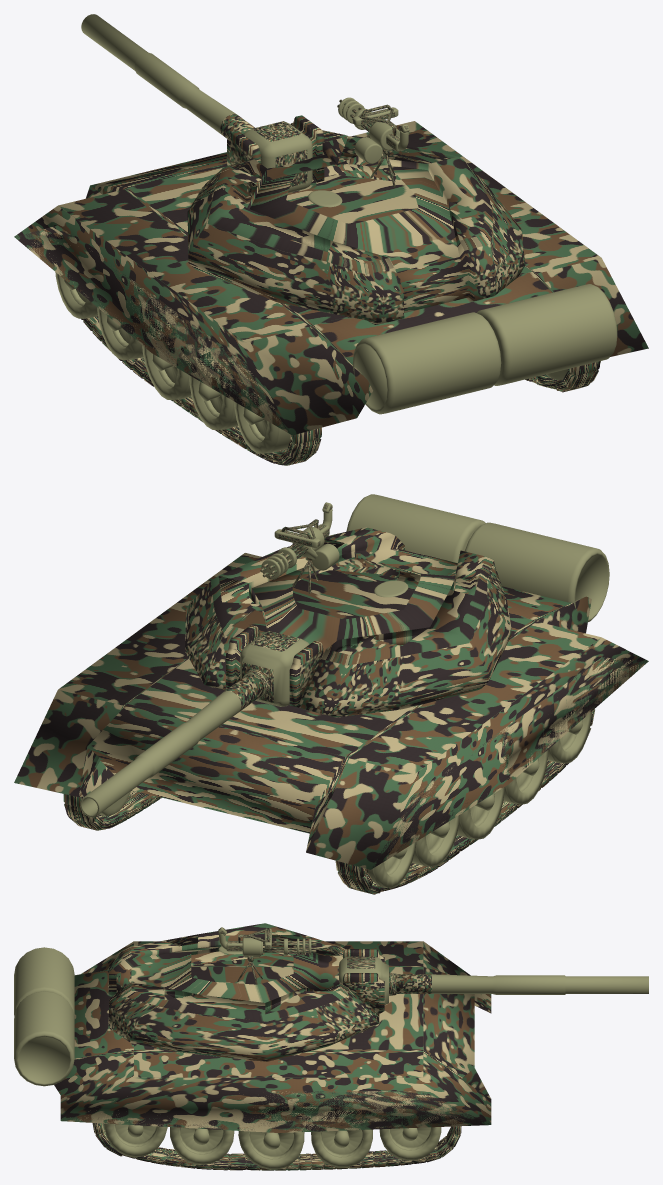
3 renders of one model, top to bottom at view 1: azimuth 30°, elevation 25°; view 2: azimuth 150°, elevation 25°; view 3: azimuth 270°, elevation 25°, orthographic. The views are drawn at different scales.
Parts seen in each view (by area): view 1: sennsya; view 2: sennsya; view 3: sennsya.
Part boxes in pixels (left/top/right/bottom): sennsya: left=14, top=14, right=648, bottom=465; sennsya: left=14, top=494, right=648, bottom=894; sennsya: left=14, top=923, right=648, bottom=1170.
Bounding box in the file's own units: 220 × 155 × 439.
